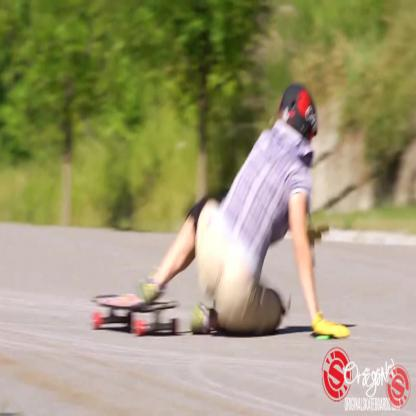Fall_Down: (135, 81, 354, 343)
